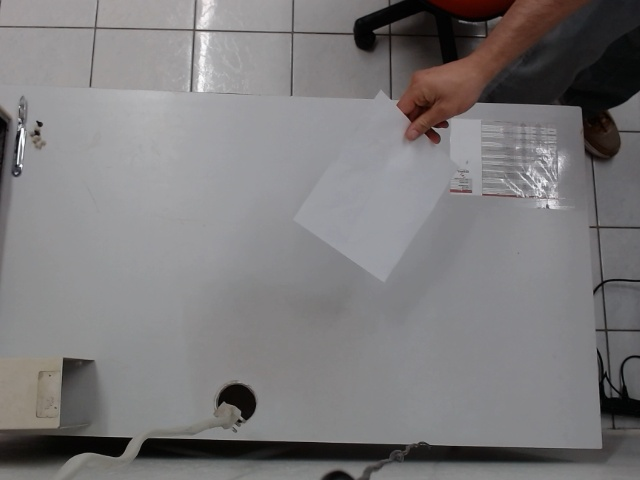divisor: (293, 89, 459, 283)
